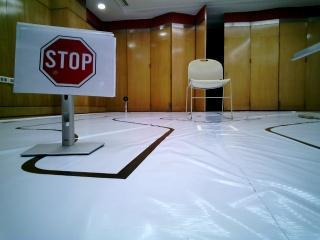stop: (31, 28, 107, 92)
